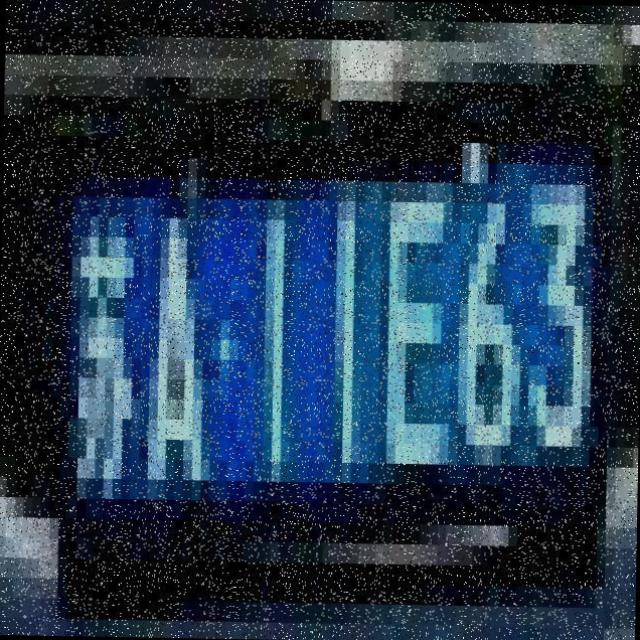LicensePlate: (40, 105, 626, 626)
